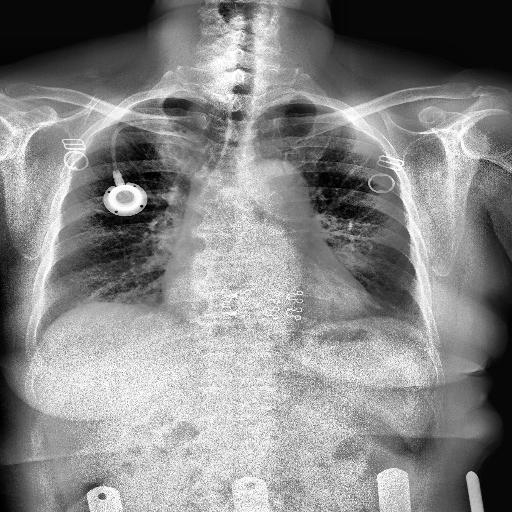0- Aortic enlargement: (234, 153, 310, 219), (232, 158, 308, 220), (244, 159, 310, 225)
3- Cardiomegaly: (160, 261, 380, 320), (162, 263, 378, 320), (161, 277, 379, 332)
